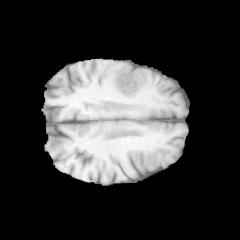glioma: (112, 67, 144, 97)
